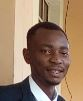without_facemask: (37, 56, 75, 81)
